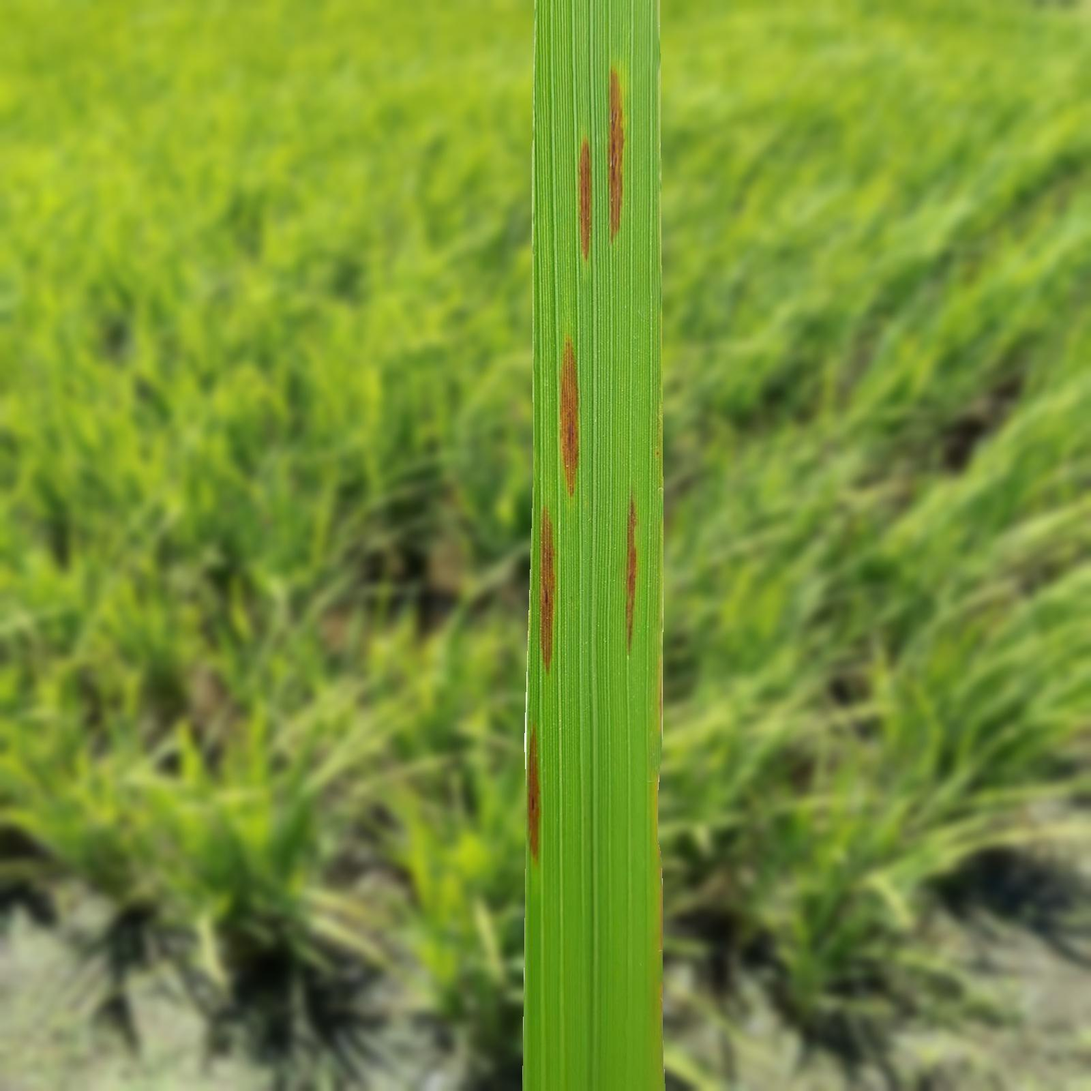LEAF: (522, 0, 665, 1090)
NBS: (608, 70, 625, 239), (561, 338, 579, 494), (539, 507, 554, 671), (527, 728, 540, 861), (626, 498, 637, 648), (579, 137, 591, 260)
